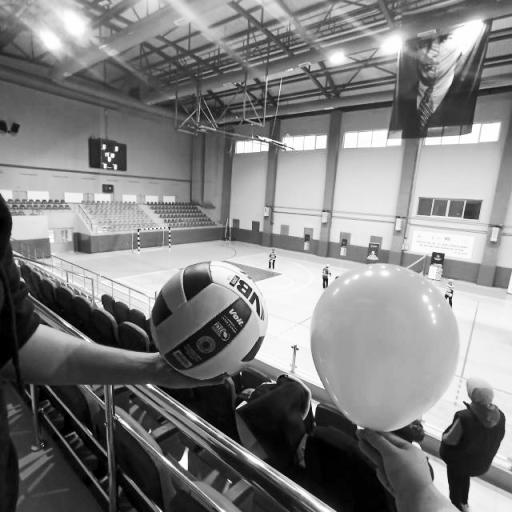balloon: (311, 262, 461, 429)
